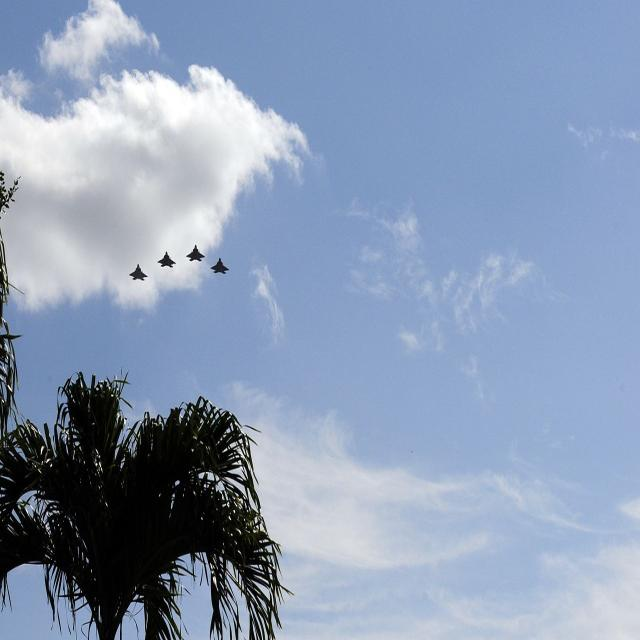MIL_Plane: (185, 244, 205, 262), (157, 250, 176, 268), (128, 264, 148, 281), (210, 257, 230, 274)
